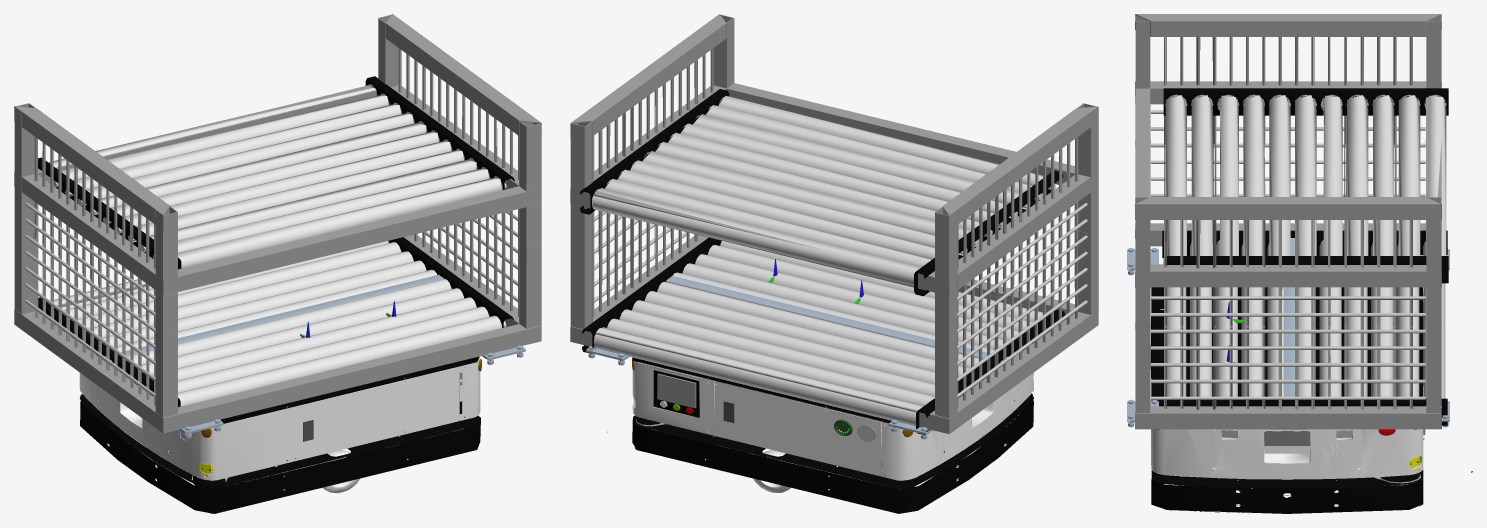
3 renders of one model, left to right at view 1: azimuth 30°, elevation 25°; view 2: azimuth 150°, elevation 25°; view 3: azimuth 270°, elevation 25°, orthographic. The views are drawn at different scales.
Parts seen in each view (by area): view 1: geo_grey_matte_4, geo_chrome_1.001, geo_chrome_1, geo_grey_8, geo_rubber_11, geo_concrete_white_10, geo_aluminium_2.002, geo_aluminium_2, geo_light_aqua_matte_6; view 2: geo_grey_matte_4, geo_chrome_1.001, geo_chrome_1, geo_grey_8, geo_rubber_11, geo_concrete_white_10, geo_aluminium_2.002, geo_light_aqua_matte_6, geo_aluminium_2, geo_black_13; view 3: geo_grey_matte_4, geo_chrome_1.001, geo_chrome_1, geo_rubber_11, geo_grey_8, geo_concrete_white_10, geo_aluminium_2.002, geo_aluminium_2, geo_light_aqua_matte_6, geo_light_grey_7.
Part boxes in pixels (x1,y1,x2,y2): geo_grey_matte_4: (14,14,541,433); geo_chrome_1.001: (48,84,506,268); geo_chrome_1: (54,241,506,406); geo_grey_8: (79,356,480,493); geo_rubber_11: (79,356,480,513); geo_concrete_white_10: (25,202,517,397); geo_aluminium_2.002: (38,76,514,269); geo_aluminium_2: (38,237,513,406); geo_light_aqua_matte_6: (102,274,525,438); geo_grey_matte_4: (570,14,1098,434); geo_chrome_1.001: (592,96,1055,285); geo_chrome_1: (593,241,1057,425); geo_grey_8: (632,361,1033,492); geo_rubber_11: (632,357,1033,513); geo_concrete_white_10: (594,203,1087,398); geo_aluminium_2.002: (580,89,1063,296); geo_light_aqua_matte_6: (586,276,1058,439); geo_aluminium_2: (582,237,1065,435); geo_black_13: (636,370,1030,446); geo_grey_matte_4: (1134,14,1441,434); geo_chrome_1.001: (1165,94,1446,255); geo_chrome_1: (1165,240,1445,398); geo_rubber_11: (1151,287,1423,513); geo_grey_8: (1151,287,1423,485); geo_concrete_white_10: (1151,110,1425,399); geo_aluminium_2.002: (1163,88,1448,283); geo_aluminium_2: (1162,230,1447,425); geo_light_aqua_matte_6: (1127,230,1449,427); geo_light_grey_7: (1221,431,1420,485).
Bounding box in the file's own units: 106 × 88.81 × 81.08.
